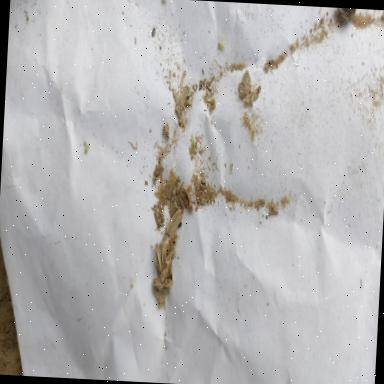pbw: (150, 234, 167, 274), (164, 204, 184, 238), (176, 181, 194, 212), (159, 248, 173, 284), (174, 84, 190, 114), (152, 285, 166, 308), (153, 276, 172, 288)
